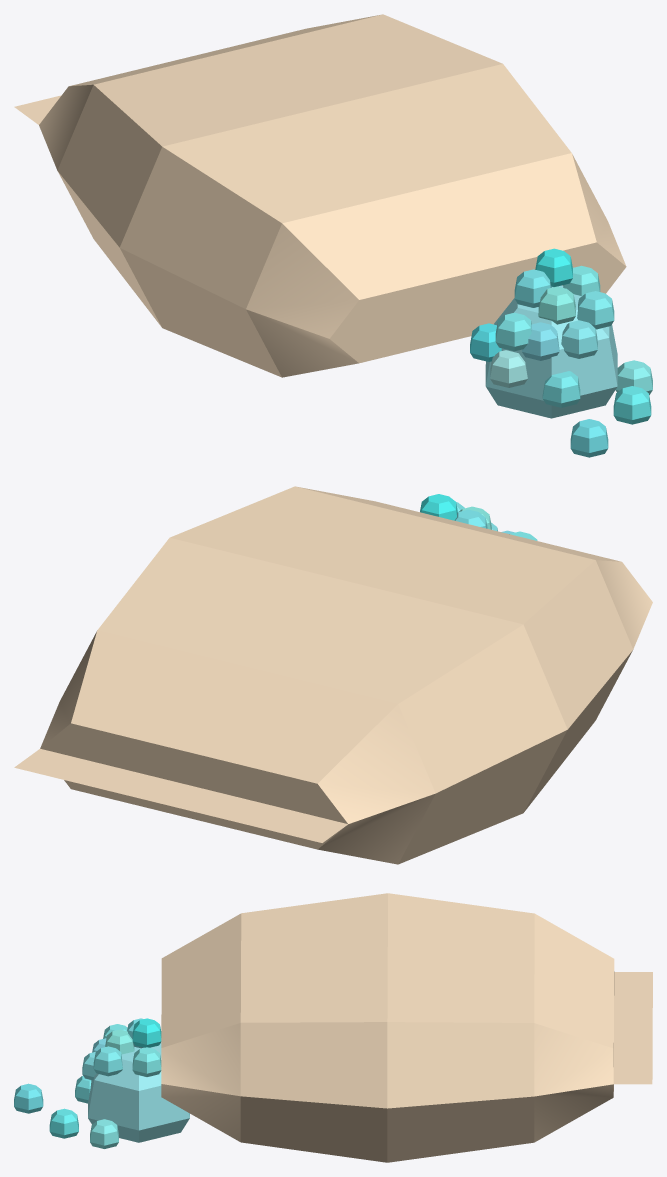
Rendered from FertilizerBagC.fbx.
3 views of the same model, one above another, from view 1: azimuth 30°, elevation 25°; view 2: azimuth 150°, elevation 25°; view 3: azimuth 270°, elevation 25° (orthographic). The views are drawn at different scales.
Visible parts, largest first — view 1: bagFlat, stone_smallI.001, stone_smallI.013, stone_smallI.008, stone_smallI.003, stone_smallI.005, stone_smallI.006, stone_smallI.009, stone_smallI.012, stone_smallI.007, stone_smallI.011, stone_smallI.004 (+4 smaller); view 2: bagFlat, stone_smallI.004; view 3: bagFlat, stone_smallI.001, stone_smallI.008, stone_smallI.013, stone_smallI.002, stone_smallI.004, stone_smallI.007, stone_smallI.014, stone_smallI.006.
Part boxes in pixels (x1=…): bagFlat: x1=14, y1=14, x2=626, y2=377; stone_smallI.001: x1=485, y1=285, x2=617, y2=418; stone_smallI.013: x1=570, y1=419, x2=608, y2=457; stone_smallI.008: x1=613, y1=386, x2=651, y2=424; stone_smallI.003: x1=490, y1=350, x2=527, y2=387; stone_smallI.005: x1=561, y1=320, x2=597, y2=358; stone_smallI.006: x1=538, y1=286, x2=575, y2=324; stone_smallI.009: x1=495, y1=312, x2=531, y2=351; stone_smallI.012: x1=542, y1=371, x2=580, y2=407; stone_smallI.007: x1=577, y1=291, x2=614, y2=329; stone_smallI.011: x1=522, y1=322, x2=559, y2=360; stone_smallI.004: x1=535, y1=248, x2=572, y2=286; bagFlat: x1=14, y1=486, x2=652, y2=864; stone_smallI.004: x1=420, y1=494, x2=457, y2=520; bagFlat: x1=161, y1=893, x2=652, y2=1162; stone_smallI.001: x1=88, y1=1043, x2=189, y2=1142; stone_smallI.008: x1=49, y1=1108, x2=78, y2=1138; stone_smallI.013: x1=14, y1=1083, x2=43, y2=1113; stone_smallI.002: x1=132, y1=1047, x2=161, y2=1076; stone_smallI.004: x1=132, y1=1018, x2=161, y2=1047; stone_smallI.007: x1=93, y1=1046, x2=122, y2=1076; stone_smallI.014: x1=90, y1=1119, x2=118, y2=1148; stone_smallI.006: x1=105, y1=1029, x2=134, y2=1054.
Size of the model in its own units: 18.7 by 7.72 by 31.35.
